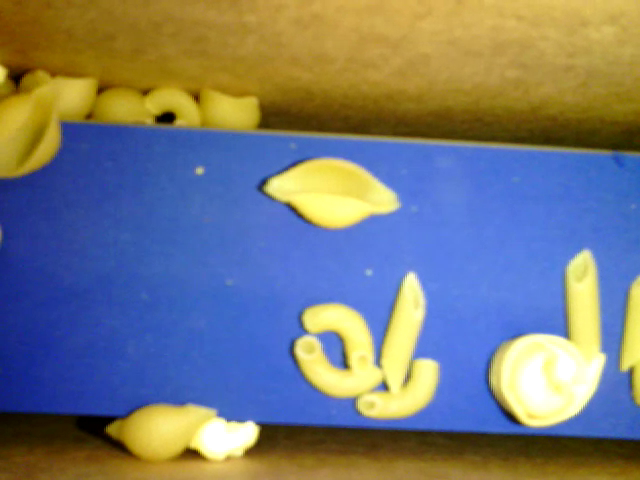elbow: (291, 335, 387, 399), (354, 353, 440, 417), (302, 302, 375, 371), (145, 84, 202, 128)
penne: (378, 269, 426, 394), (563, 244, 601, 356), (617, 270, 639, 373)
shell: (261, 156, 402, 229), (105, 399, 217, 460), (1, 84, 64, 180), (20, 69, 98, 120), (91, 85, 160, 127), (193, 86, 261, 128)
tortellini: (486, 332, 608, 430)
